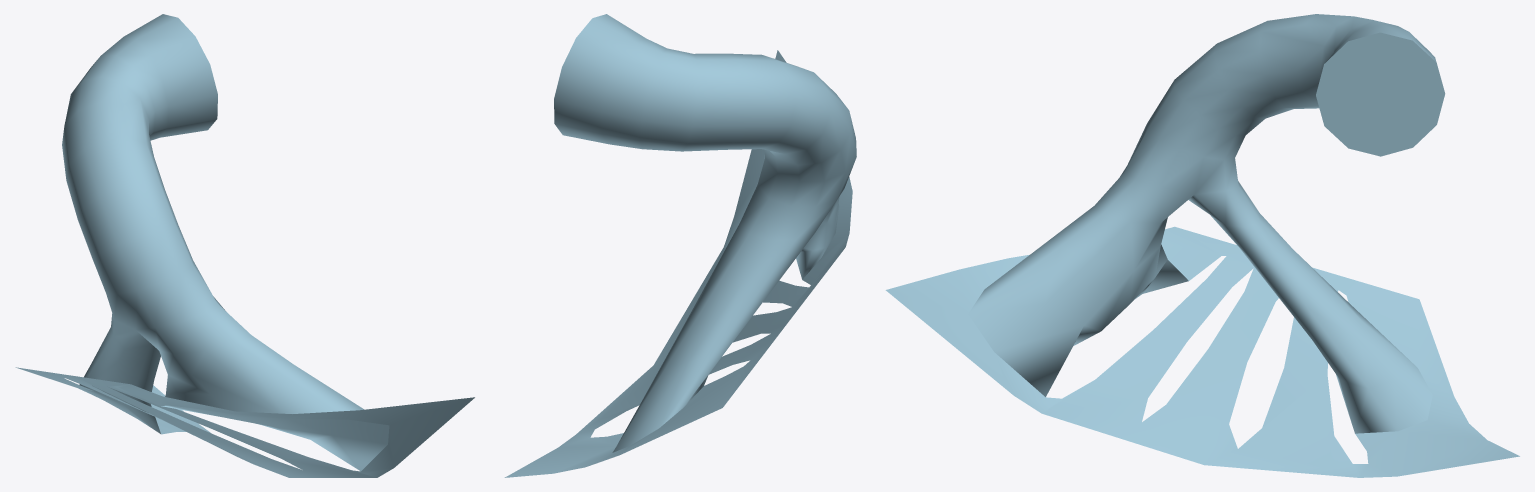
Rendered from articulacoes-ligament-of-head-of-femur-l.glb.
3 renders of one model, left to right at view 1: azimuth 30°, elevation 25°; view 2: azimuth 150°, elevation 25°; view 3: azimuth 270°, elevation 25°, orthographic. The views are drawn at different scales.
Visible parts, largest first — view 1: Ligament of head of femur.l; view 2: Ligament of head of femur.l; view 3: Ligament of head of femur.l.
Boxes of the visible parts, <box> form: Ligament of head of femur.l: <box>15,14,474,477</box>; Ligament of head of femur.l: <box>504,14,856,477</box>; Ligament of head of femur.l: <box>885,14,1519,477</box>.
Size of the model in its own units: 0.0137 by 0.0245 by 0.0326.
